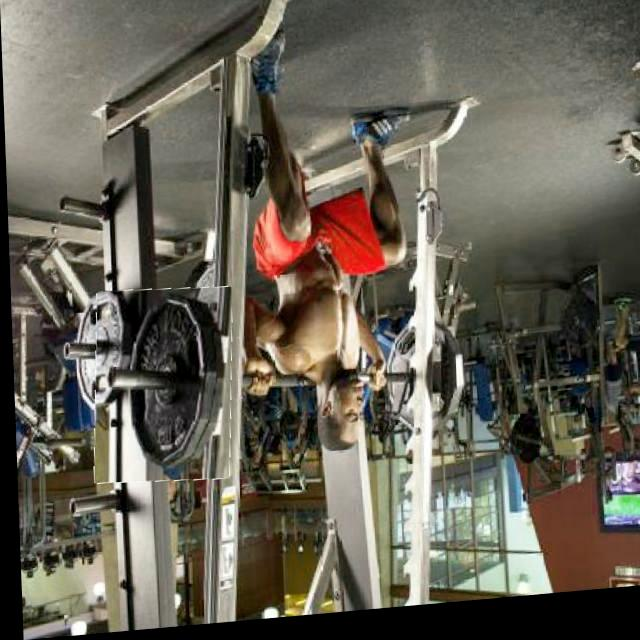barbell: (88, 287, 233, 490)
